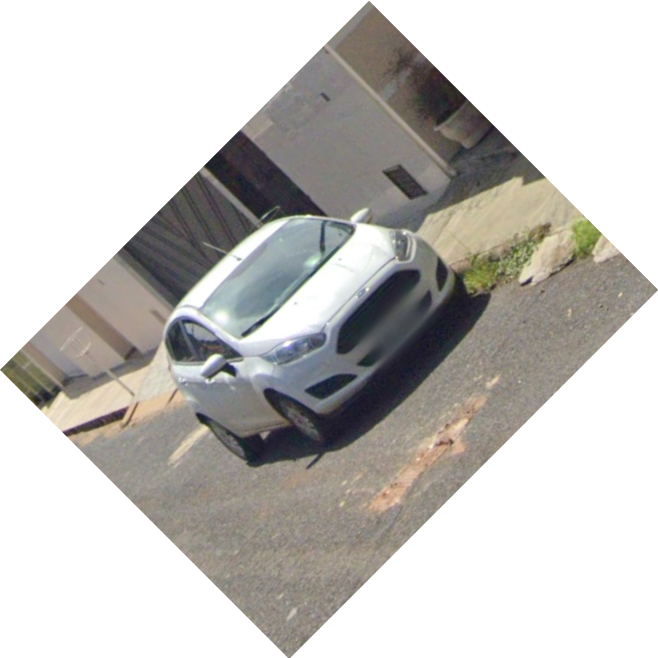car: (160, 208, 476, 469)
